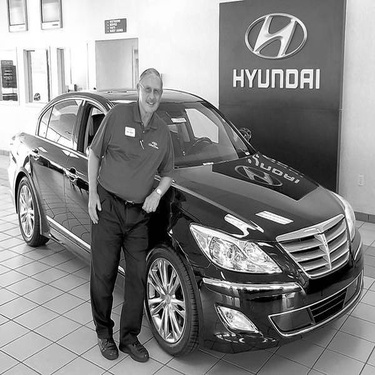car: (1, 60, 368, 344)
